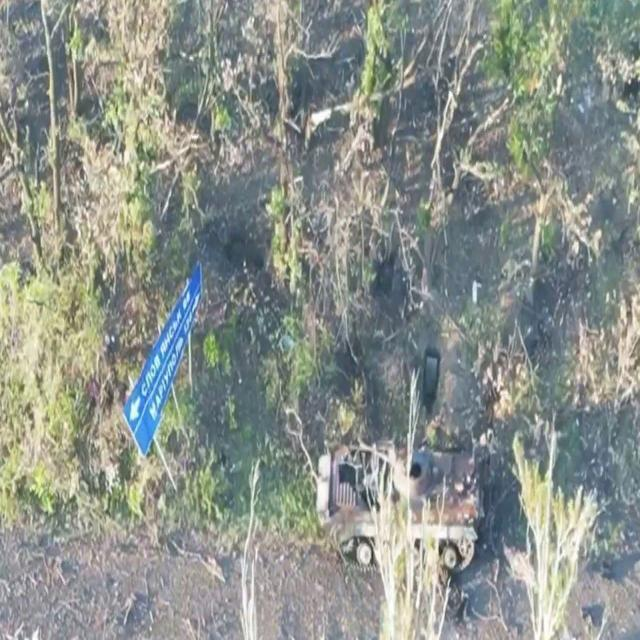AIFV: (316, 439, 484, 589)
